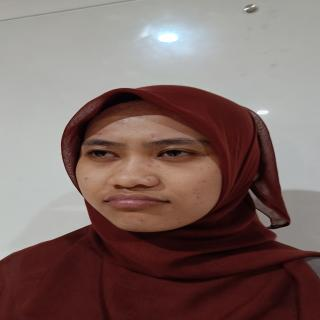Sedih: (71, 99, 233, 236)
